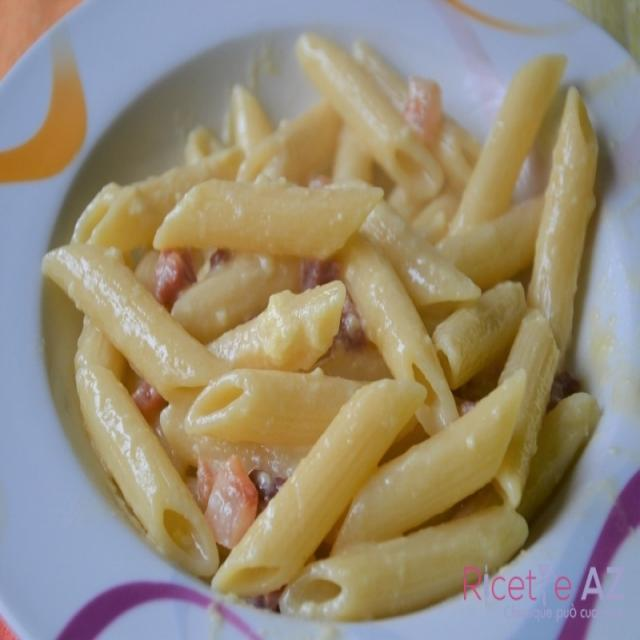Pasta with carbonara sauce: (55, 36, 613, 606)
